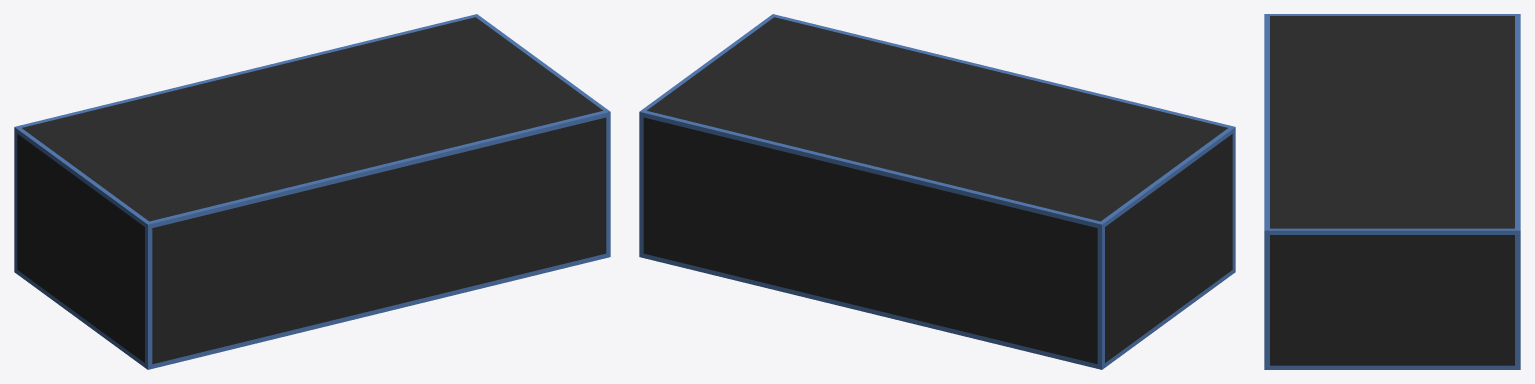
Rendered from Brick.fbx.
The picture shows the model from 3 angles, left to right: view 1: azimuth 30°, elevation 25°; view 2: azimuth 150°, elevation 25°; view 3: azimuth 270°, elevation 25°; orthographic projection. The views are drawn at different scales.
Visible parts, largest first — view 1: Cube; view 2: Cube; view 3: Cube.
Part boxes in pixels (left/top/right/bottom): Cube: left=14, top=14, right=610, bottom=369; Cube: left=639, top=14, right=1235, bottom=369; Cube: left=1264, top=14, right=1520, bottom=369.
Bounding box in the file's own units: 1 × 0.3 × 0.5.
